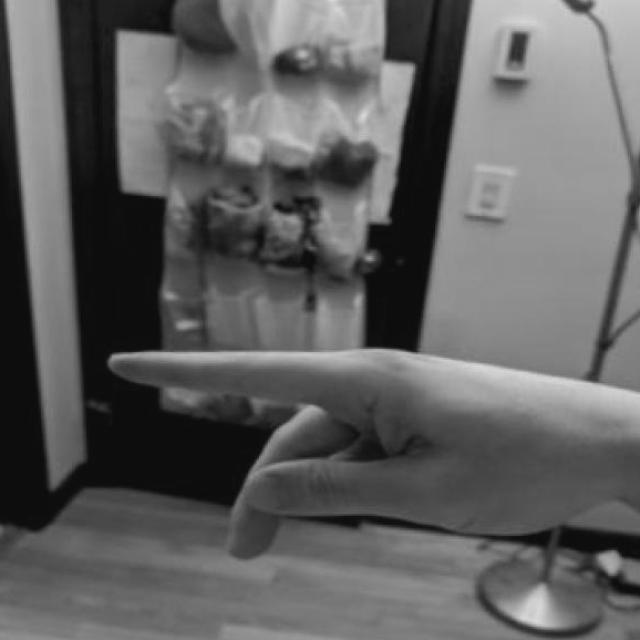P: (95, 298, 640, 572)
